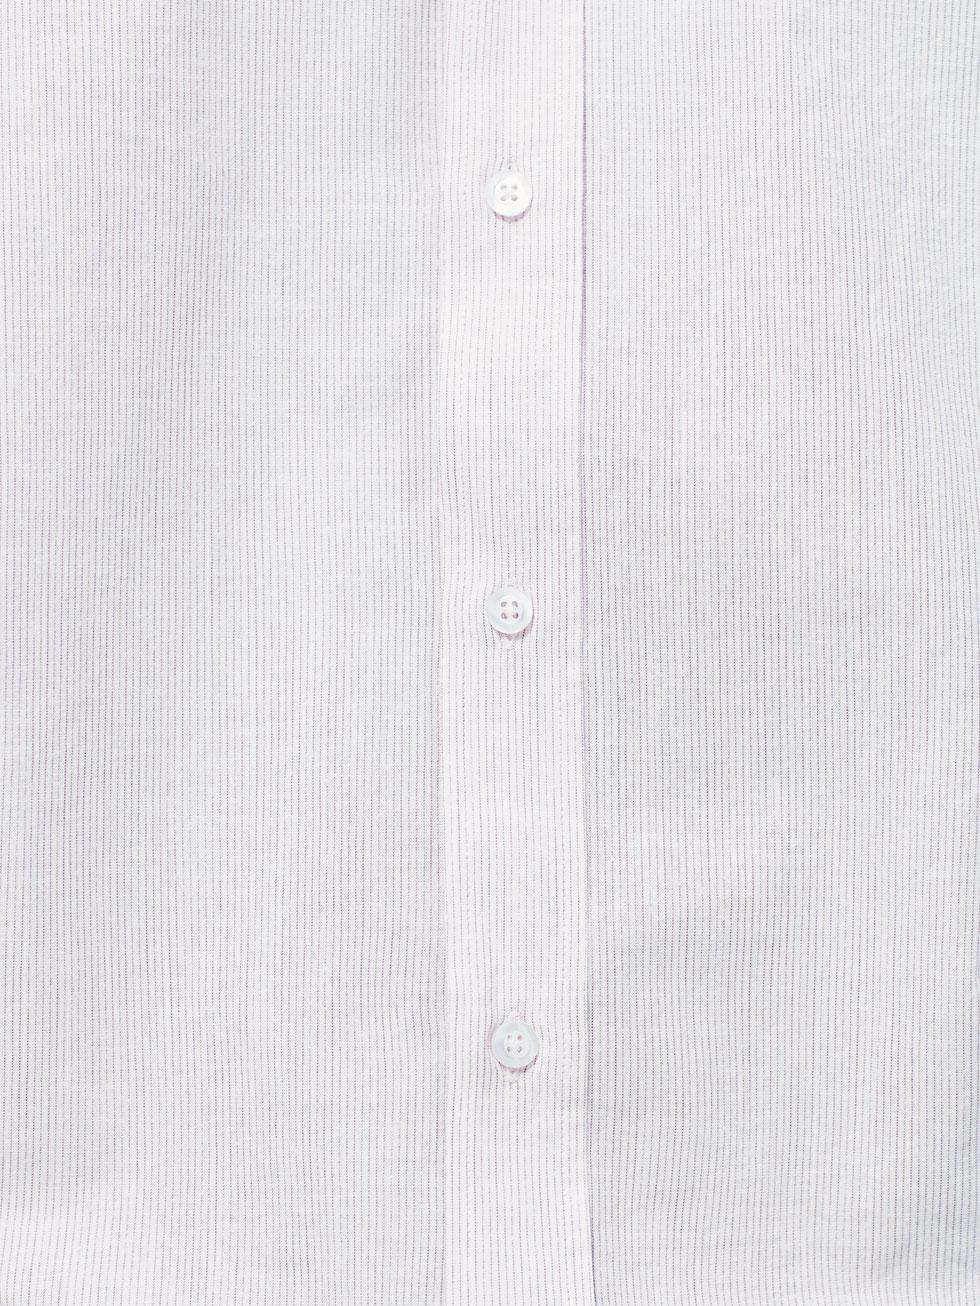teeshirt: (5, 9, 972, 1306)
